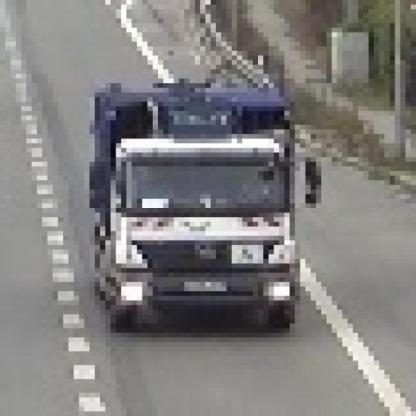truck: (85, 75, 317, 329)
